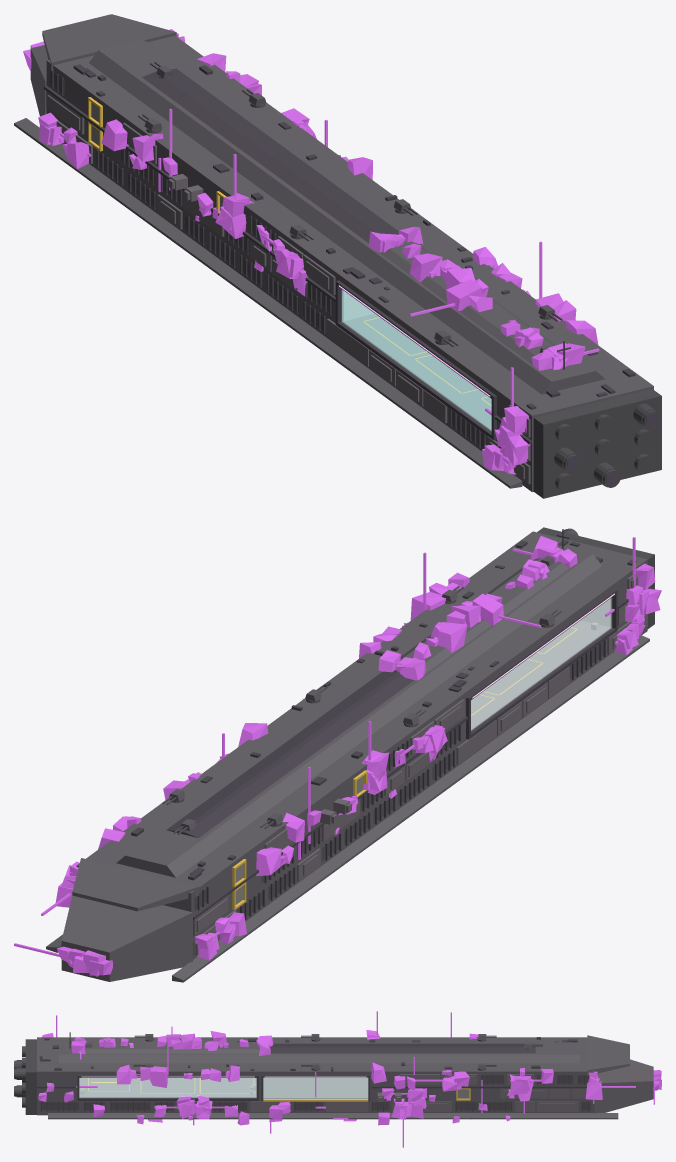
The model's file is ship_LARGE_v2.glb.
The picture shows the model from 3 angles, top to bottom: view 1: azimuth 30°, elevation 25°; view 2: azimuth 150°, elevation 25°; view 3: azimuth 270°, elevation 25°; orthographic projection. The views are drawn at different scales.
Parts seen in each view (by area): view 1: LARGE_Hull-col, LARGE_Growth, LARGE_Trim, LARGE_Engines, LARGE_Armor, LARGE_HangarShield_Port, LARGE_Decks-col, LARGE_Accent, LARGE_Details, LARGE_Hazard; view 2: LARGE_Hull-col, LARGE_Growth, LARGE_Trim, LARGE_Armor, LARGE_HangarShield_Port, LARGE_Decks-col, LARGE_Accent, LARGE_Details, LARGE_Engines, LARGE_Hazard; view 3: LARGE_Hull-col, LARGE_Growth, LARGE_Trim, LARGE_HangarShield_Starboard, LARGE_Armor, LARGE_Decks-col, LARGE_Accent, LARGE_CargoBayShield, LARGE_CargoBayDoor-col, LARGE_Engines, LARGE_Hazard, LARGE_Details (+1 smaller).
Part boxes in pixels (box(x1,y1,x2,y2)): LARGE_Hull-col: box(14, 14, 653, 491); LARGE_Growth: box(23, 29, 599, 474); LARGE_Trim: box(44, 68, 531, 448); LARGE_Engines: box(533, 389, 661, 498); LARGE_Armor: box(46, 91, 530, 484); LARGE_HangarShield_Port: box(342, 290, 491, 430); LARGE_Decks-col: box(344, 314, 491, 428); LARGE_Accent: box(50, 70, 486, 447); LARGE_Details: box(73, 64, 635, 409); LARGE_Hazard: box(88, 97, 491, 406); LARGE_Hull-col: box(46, 531, 649, 982); LARGE_Growth: box(14, 536, 661, 976); LARGE_Trim: box(166, 589, 628, 919); LARGE_Armor: box(193, 574, 647, 955); LARGE_HangarShield_Port: box(471, 598, 611, 730); LARGE_Decks-col: box(471, 620, 609, 728); LARGE_Accent: box(193, 642, 603, 955); LARGE_Details: box(131, 529, 636, 880); LARGE_Engines: box(537, 527, 654, 628); LARGE_Hazard: box(232, 627, 577, 909); LARGE_Hull-col: box(37, 1035, 653, 1119); LARGE_Growth: box(38, 1011, 661, 1147); LARGE_Trim: box(37, 1043, 588, 1111); LARGE_HangarShield_Starboard: box(79, 1078, 256, 1097); LARGE_Armor: box(177, 1074, 586, 1111); LARGE_Decks-col: box(79, 1078, 256, 1097); LARGE_Accent: box(40, 1075, 590, 1110); LARGE_CargoBayShield: box(263, 1077, 368, 1098); LARGE_CargoBayDoor-col: box(263, 1077, 368, 1098); LARGE_Engines: box(14, 1039, 36, 1114); LARGE_Hazard: box(88, 1078, 470, 1101); LARGE_Details: box(39, 1032, 577, 1071).
Size of the model in its own units: 29.3 by 32.65 by 175.
